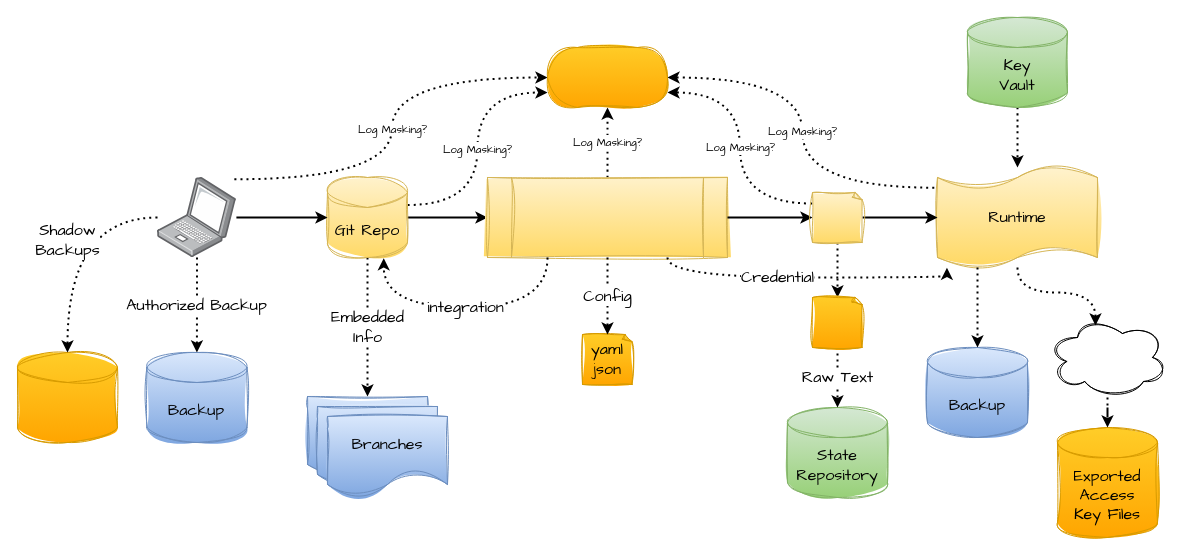
The diagram is 1185 pixels wide and 555 high, and some of its shapes have lost their labels. Each missing label, with the centre of its shape:
"CI/CD Pipeline" goes at pixel 607 217.
"Cloud Services" goes at pixel 1107 357.
"IaC" goes at pixel 837 217.
"Logs" goes at pixel 607 77.
"State" goes at pixel 837 322.
"tar / zip" goes at pixel 67 397.
